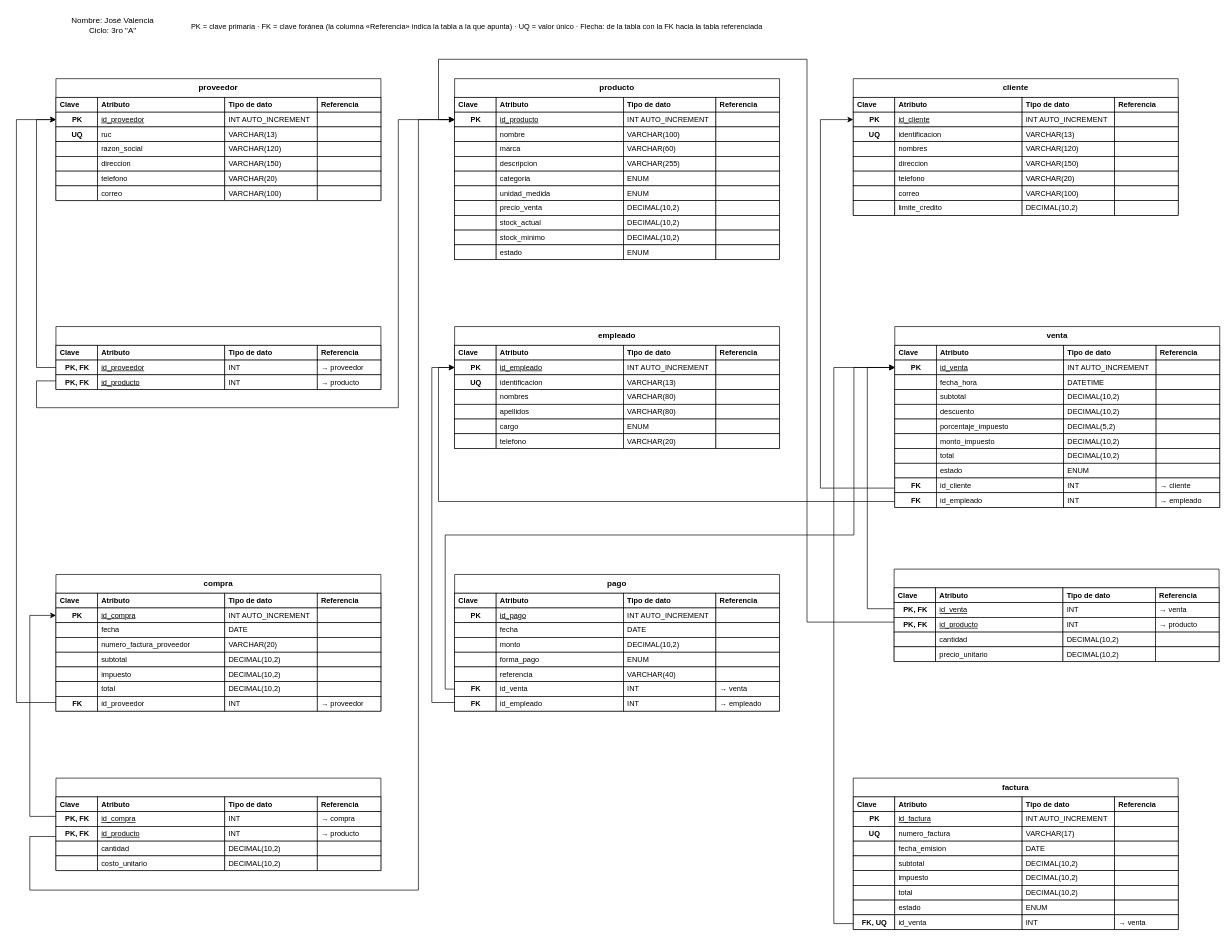
Some shapes in this 1231 by 941 pixel diagram are drawn without their labels. The box of each missing label's shape, as (x1, y1, x2, y2) in pixels:
detalle_compra: (55, 777, 381, 871)
detalle_venta: (893, 568, 1219, 662)
proveedor_producto: (55, 326, 381, 390)
